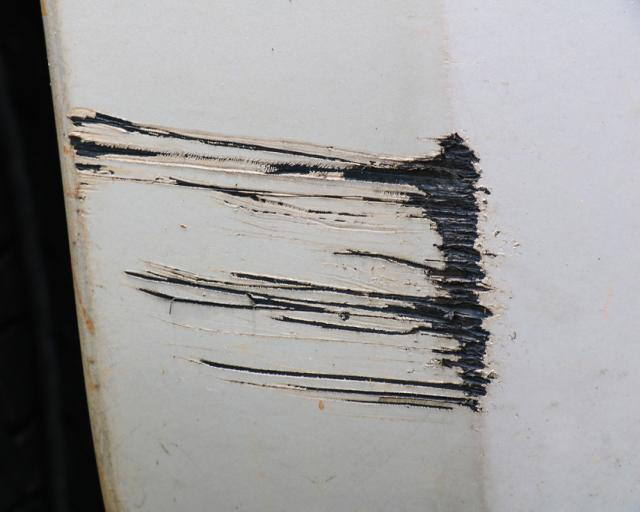scratch: (66, 103, 519, 418)
